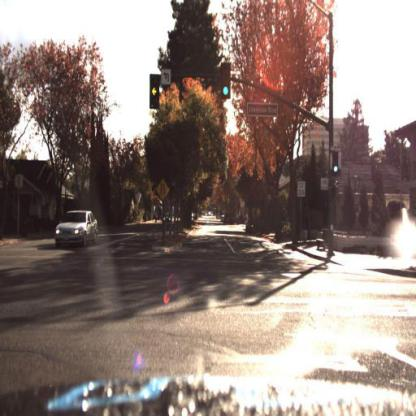car: (51, 207, 98, 249), (56, 212, 100, 246)
trafficLight: (151, 74, 161, 110)
trafficLight-Green: (220, 62, 232, 103), (221, 64, 232, 101), (331, 155, 341, 178), (332, 152, 340, 178)
trafficLight-YellowLeft: (152, 76, 161, 112)
